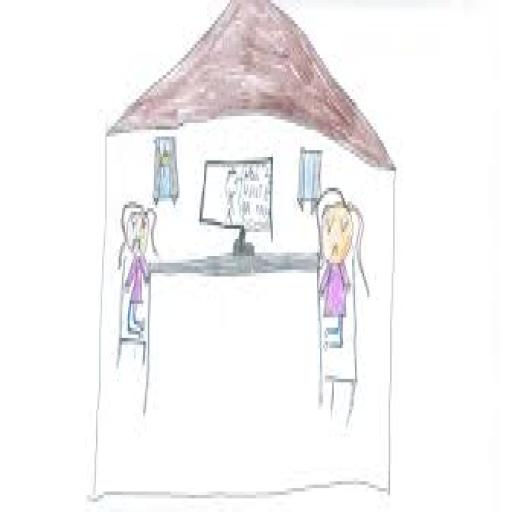person: (305, 173, 371, 355), (113, 198, 159, 350)
